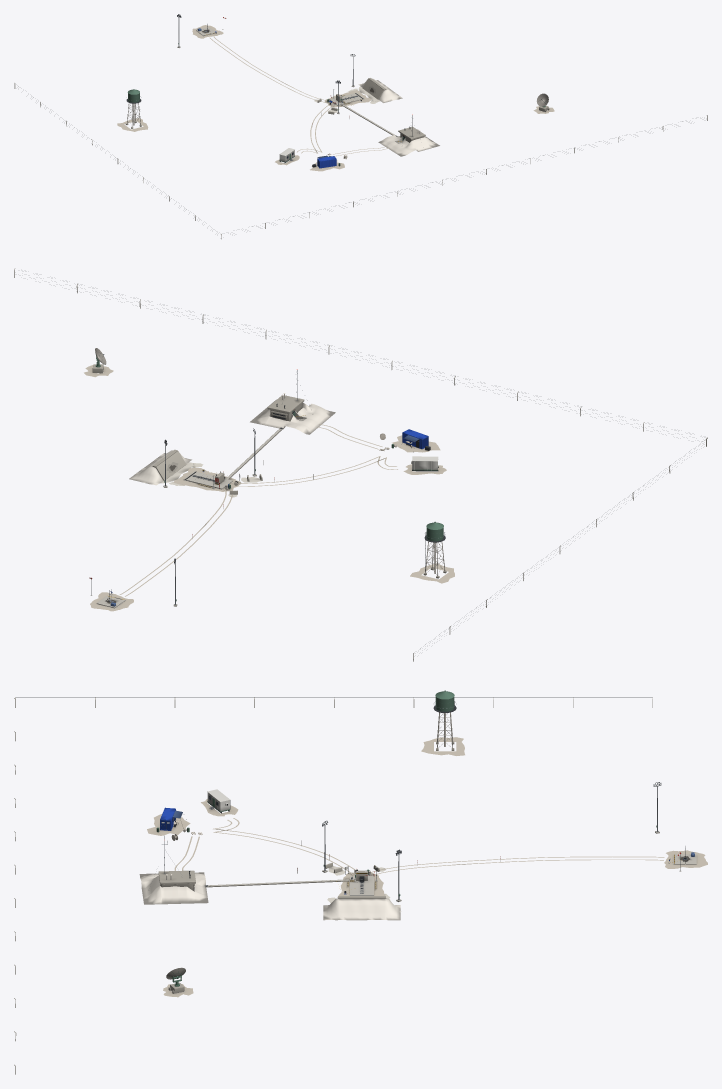
Rendered from range.glb.
3 renders of one model, top to bottom at view 1: azimuth 30°, elevation 25°; view 2: azimuth 150°, elevation 25°; view 3: azimuth 270°, elevation 25°, orthographic. The views are drawn at different scales.
Visible parts, largest first — view 1: stand, blockhouse, watertower, clutter, workshop; view 2: stand, blockhouse, watertower, clutter, workshop, portacabin, launchpad; view 3: stand, blockhouse, watertower, clutter, fence, workshop, launchpad, portacabin.
Part boxes in pixels (x1,y1,x2,y2): stand: (280, 78, 402, 152); blockhouse: (378, 114, 439, 156); watertower: (117, 89, 148, 131); clutter: (209, 37, 389, 159); workshop: (310, 155, 344, 171); stand: (129, 428, 385, 526); blockhouse: (250, 369, 335, 434); watertower: (410, 521, 454, 583); clutter: (119, 424, 397, 596); workshop: (392, 429, 440, 452); portacabin: (403, 456, 446, 474); launchpad: (89, 577, 133, 611); stand: (208, 829, 463, 920); blockhouse: (139, 836, 208, 904); watertower: (421, 690, 464, 755); clutter: (171, 818, 664, 873); fence: (14, 697, 652, 1074); workshop: (147, 807, 190, 835); launchpad: (664, 846, 707, 871); portacabin: (201, 789, 238, 816).
Size of the model in its own units: 188 by 13.54 by 150.
